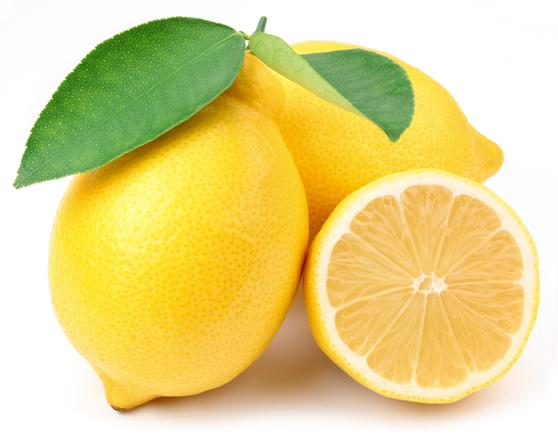lemon: (51, 87, 312, 414)
